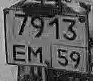plate: (6, 11, 85, 72)
